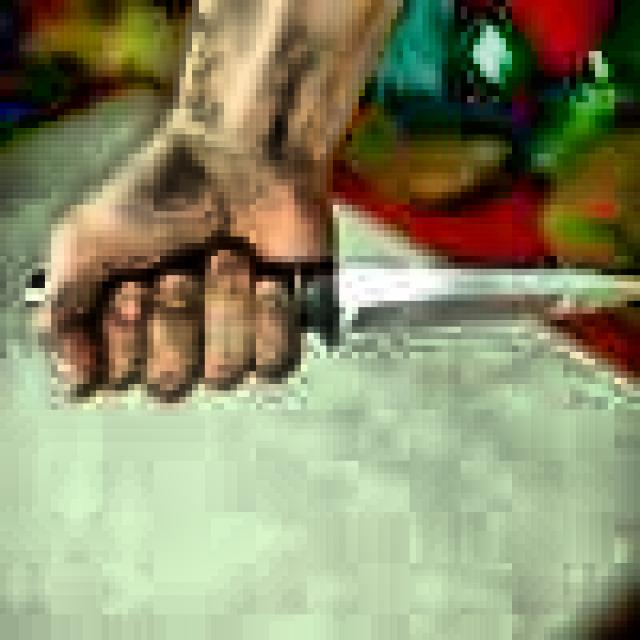knife: (33, 256, 634, 352)
